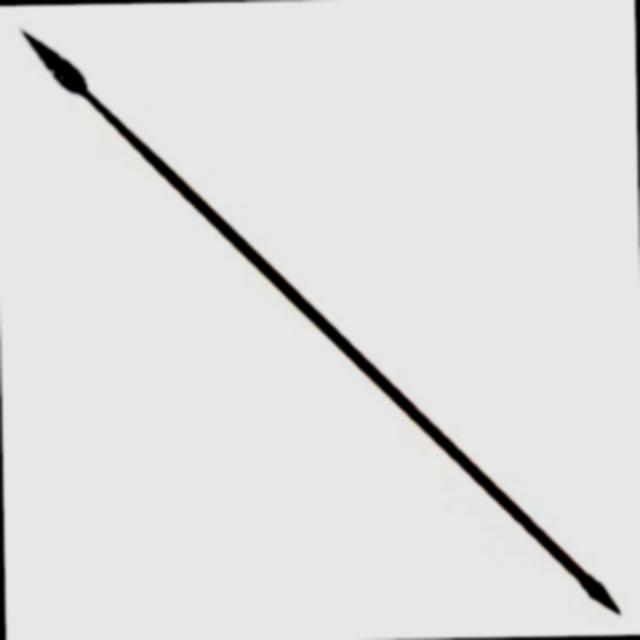spear: (11, 6, 632, 625)
